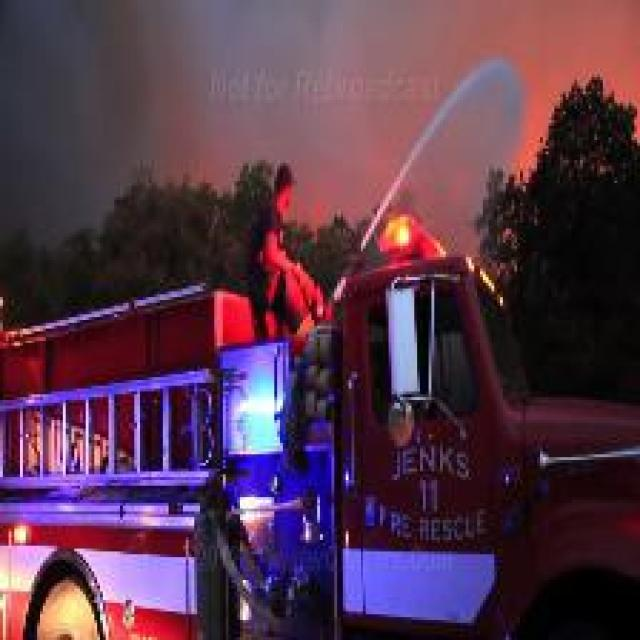other: (360, 200, 452, 265)
